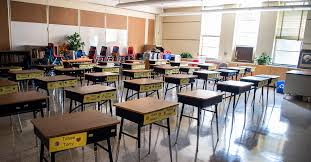desk: (31, 112, 119, 161), (113, 94, 177, 160), (177, 88, 224, 150), (216, 77, 254, 129), (63, 82, 116, 111), (0, 90, 48, 115), (239, 74, 265, 109), (35, 73, 77, 93), (122, 78, 163, 98), (164, 70, 199, 90), (83, 70, 121, 87), (121, 65, 155, 79)
